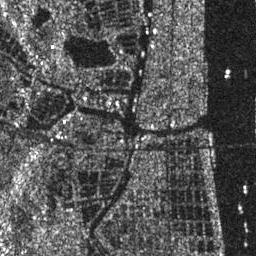ship: (207, 131, 214, 147), (224, 68, 232, 79), (236, 203, 244, 214), (209, 147, 217, 157), (242, 185, 249, 195)
